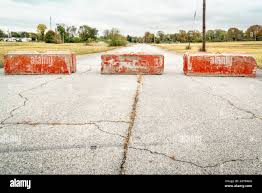obstacle: (183, 50, 259, 79), (4, 50, 78, 75), (100, 50, 168, 76)
